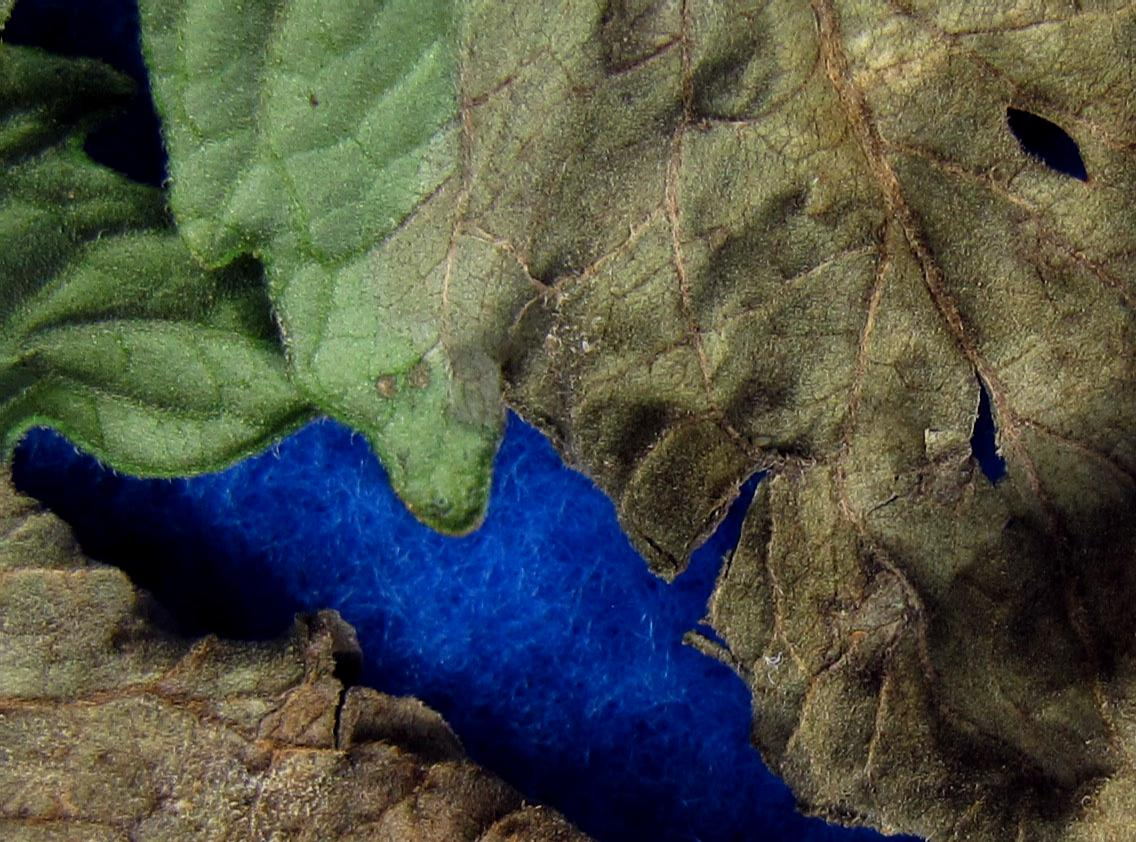Tomato leaf late blight: (0, 0, 1136, 842), (0, 3, 1119, 842)
